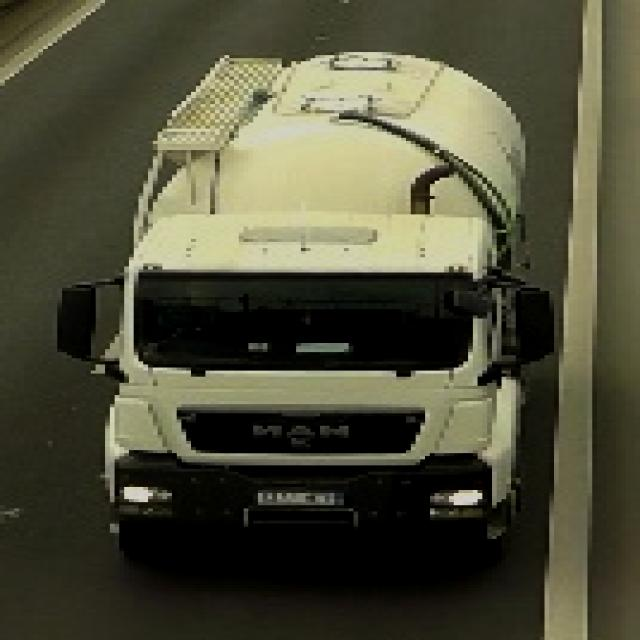truck: (58, 44, 555, 570)
